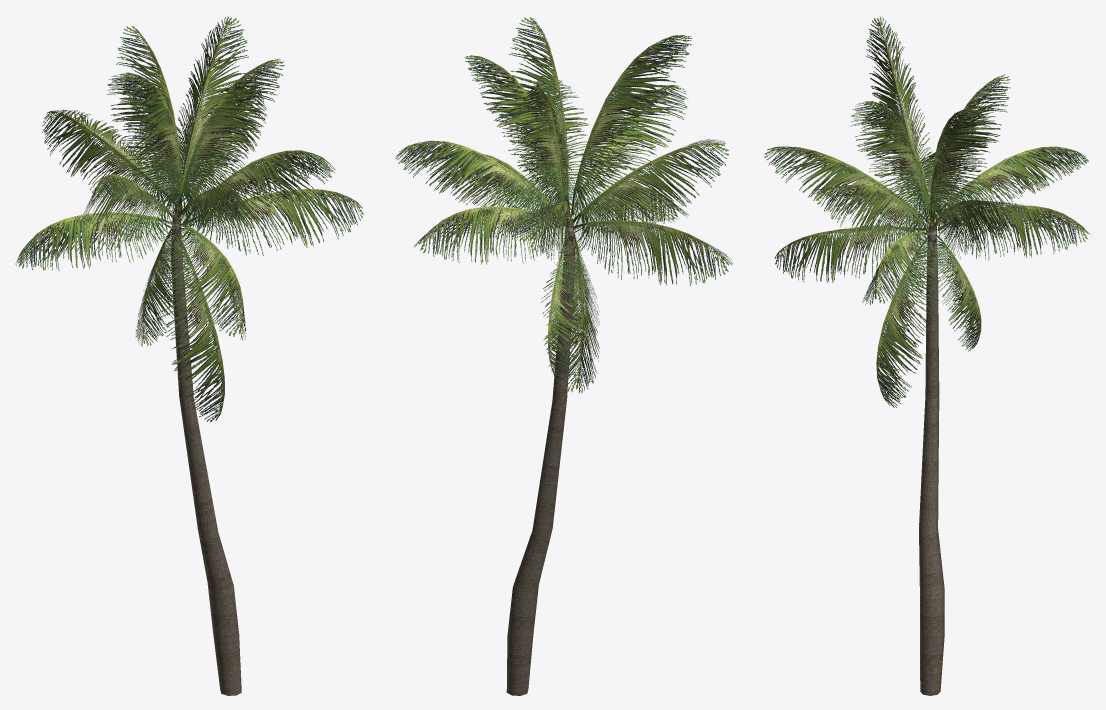
Rendered from CocoPalm.dae.
3 renders of one model, left to right at view 1: azimuth 30°, elevation 25°; view 2: azimuth 150°, elevation 25°; view 3: azimuth 270°, elevation 25°, orthographic. The views are drawn at different scales.
Visible parts, largest first — view 1: group_1 (×15), group_2; view 2: group_1 (×15), group_2; view 3: group_1 (×15), group_2.
Boxes of the visible parts, x1,y1,x2,y2 form: group_1 (×15): [15, 16, 363, 422]; group_2: [171, 257, 241, 695]; group_1 (×15): [395, 17, 732, 393]; group_2: [506, 262, 575, 695]; group_1 (×15): [764, 16, 1089, 407]; group_2: [919, 262, 944, 695].
Bounding box in the file's own units: 238 × 232 × 477.
Materials: 3 (3 with a texture image).
